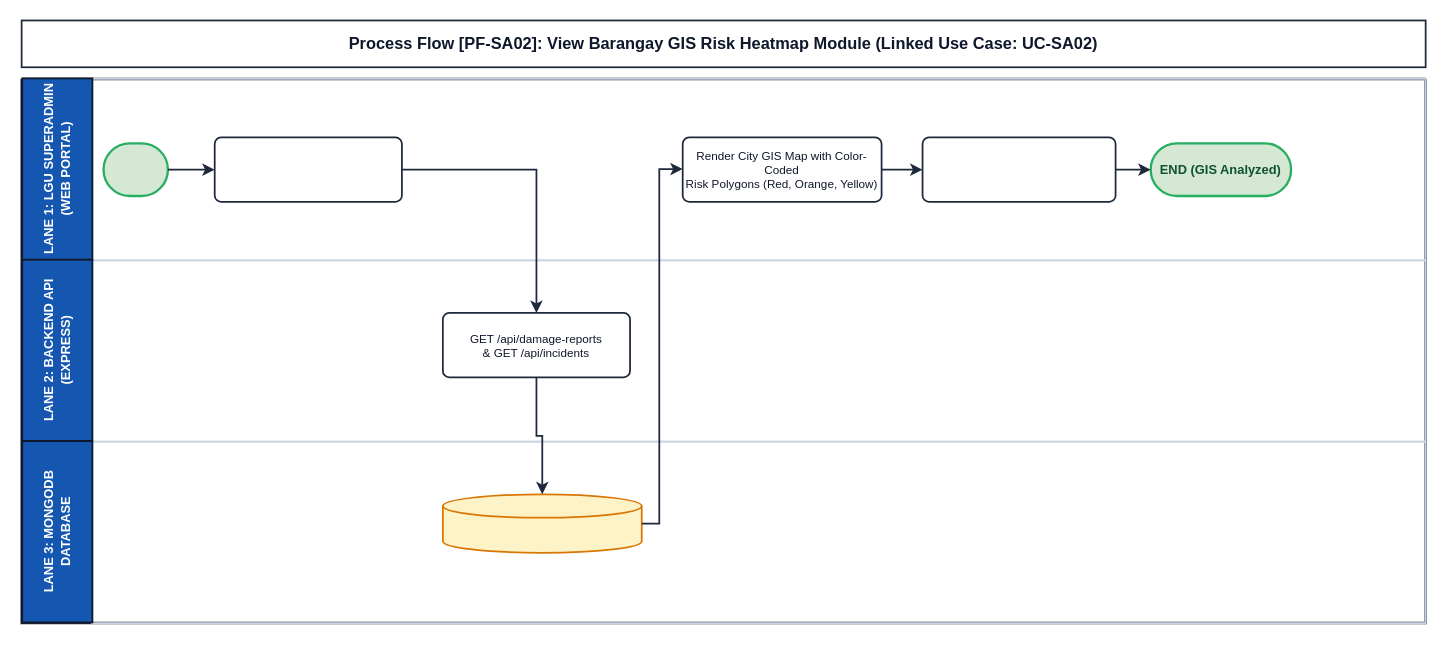
The diagram is 1446 pixels wide and 645 high, and some of its shapes have lost their labels. The box of each missing label's shape, as (x1, y1, x2, y2) in pixels:
Click Polygon to Inspect Barangay Damage Breakdown & Relief Progress: (921, 136, 1116, 202)
MongoDB: Query Damage & Incident Records with GIS Coordinates: (441, 493, 642, 553)
Open Barangay Heatmap; Trigger Leaflet.js Map Mount: (213, 136, 402, 202)
START: (102, 142, 168, 197)
